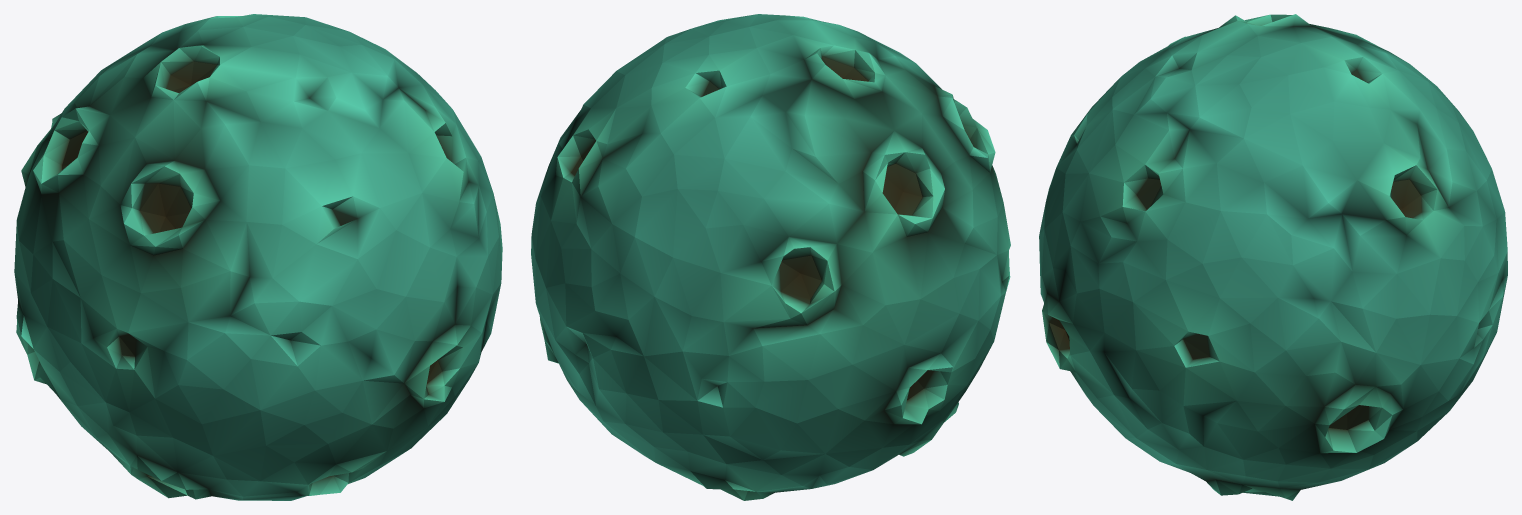
File: moon24.fbx
3 views of the same model, side by side, from view 1: azimuth 30°, elevation 25°; view 2: azimuth 150°, elevation 25°; view 3: azimuth 270°, elevation 25° (orthographic). The views are drawn at different scales.
Visible parts, largest first — view 1: attribblur1; view 2: attribblur1; view 3: attribblur1.
Part boxes in pixels (<box>): attribblur1: <box>14,14,502,500</box>; attribblur1: <box>531,14,1010,500</box>; attribblur1: <box>1039,14,1507,500</box>.
Bounding box in the file's own units: 0.8876 × 0.8867 × 0.8843.
